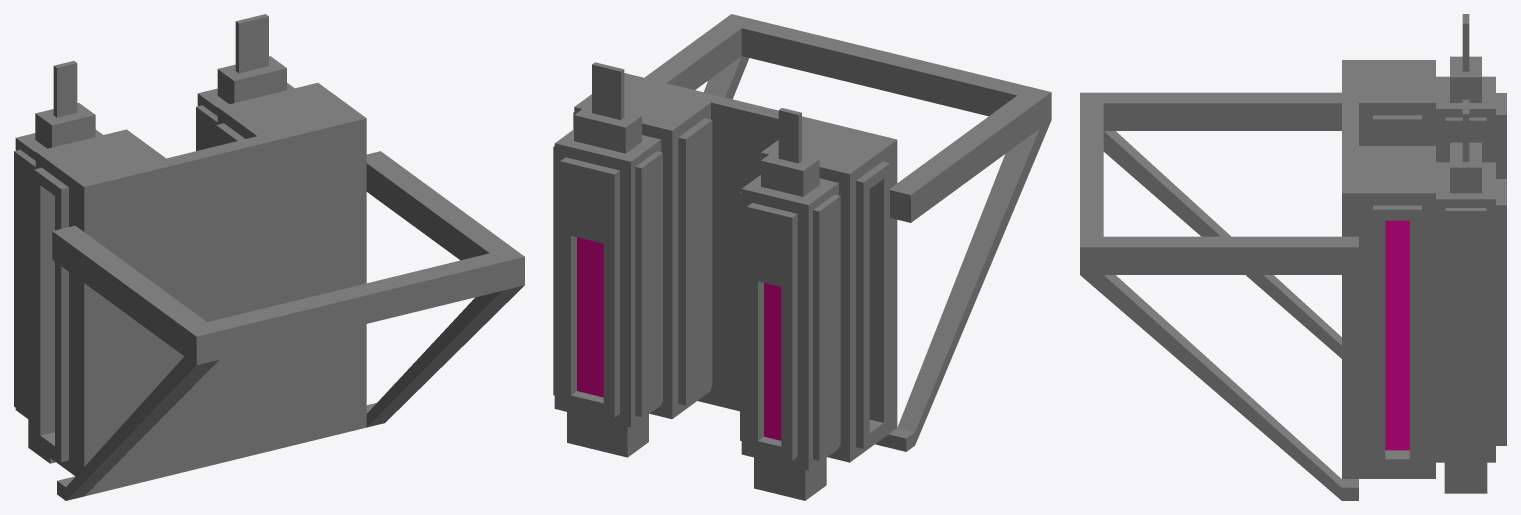
Rendered from t_jetpack.fbx.
3 renders of one model, left to right at view 1: azimuth 30°, elevation 25°; view 2: azimuth 150°, elevation 25°; view 3: azimuth 270°, elevation 25°, orthographic. The views are drawn at different scales.
Parts seen in each view (by area): view 1: JetPack; view 2: JetPack; view 3: JetPack.
Part boxes in pixels (bbox=[...]): JetPack: bbox=[14, 14, 524, 500]; JetPack: bbox=[553, 14, 1051, 500]; JetPack: bbox=[1080, 14, 1506, 500].
Bounding box in the file's own units: 52.66 × 59 × 61.32.
